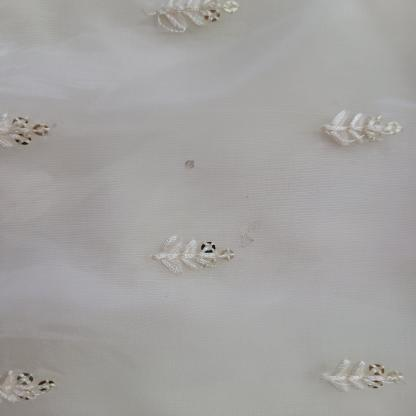spot: (182, 157, 198, 168)
